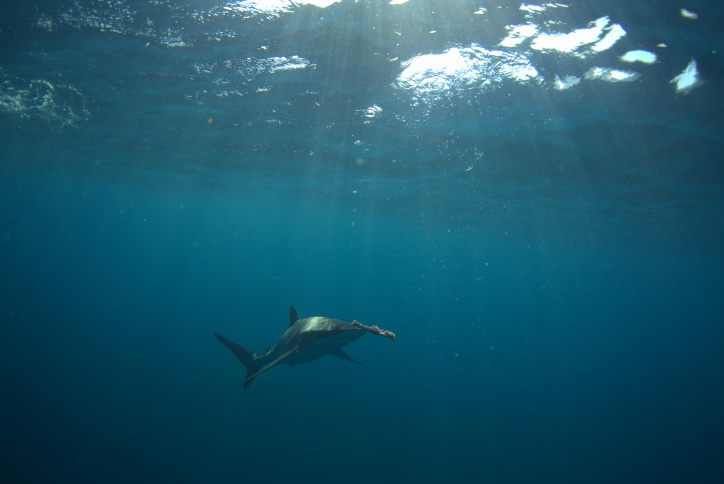Sedoso: (204, 301, 371, 391)
